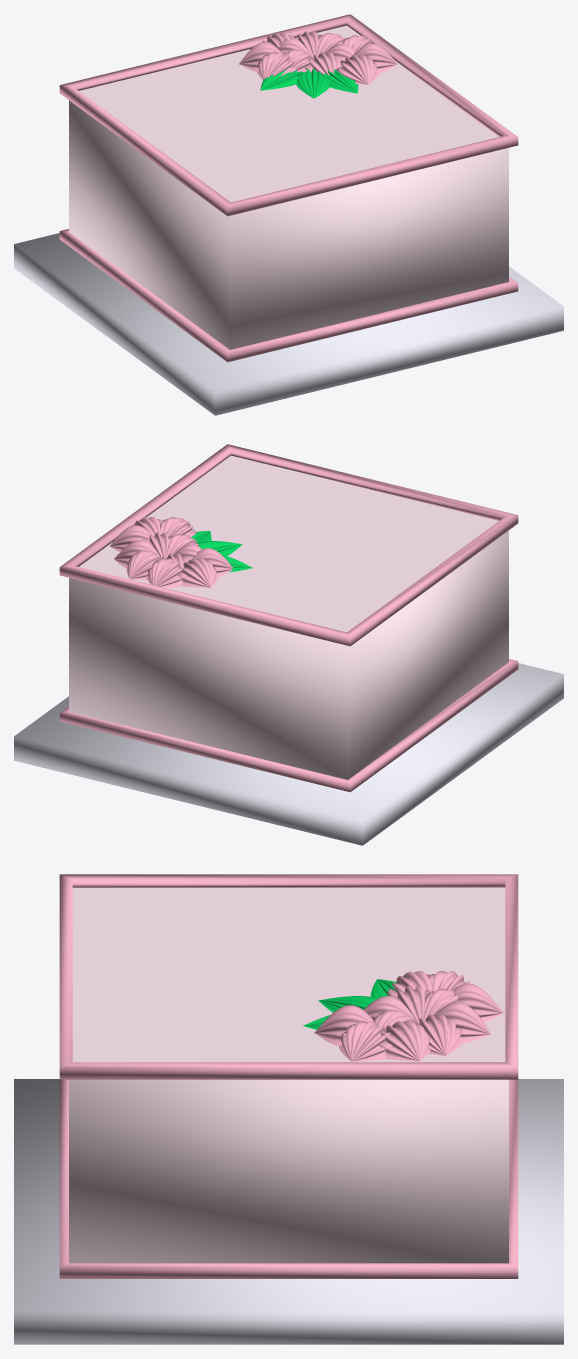
Rendered from square_strawberry_style2.glb.
The picture shows the model from 3 angles, top to bottom: view 1: azimuth 30°, elevation 25°; view 2: azimuth 150°, elevation 25°; view 3: azimuth 270°, elevation 25°; orthographic projection. The views are drawn at different scales.
Visible parts, largest first — view 1: CakeBase, CakeTopCircle, IcingStand, IcingRing.001, IcingRing, leaf.001, design10, design11, design7, design12, design3; view 2: CakeBase, CakeTopCircle, IcingStand, IcingRing.001, IcingRing, design12, design9, leaf.001, design4, design8, design11, design10 (+1 smaller); view 3: CakeBase, CakeTopCircle, IcingStand, IcingRing.001, IcingRing, design7, design8, design5, design4, design10, leaf.001, design9 (+4 smaller).
Boxes of the visible parts, box(x1,y1,x2,y2) form: CakeBase: box(69, 100, 508, 349); CakeTopCircle: box(79, 25, 498, 202); IcingStand: box(14, 233, 563, 415); IcingRing.001: box(59, 14, 518, 216); IcingRing: box(59, 229, 518, 362); leaf.001: box(260, 67, 358, 98); design10: box(336, 54, 378, 84); design11: box(257, 52, 297, 79); design7: box(354, 43, 397, 73); design12: box(239, 42, 280, 71); design3: box(304, 52, 341, 75); CakeBase: box(69, 530, 508, 779); CakeTopCircle: box(79, 455, 498, 632); IcingStand: box(14, 663, 563, 845); IcingRing.001: box(59, 444, 518, 646); IcingRing: box(59, 659, 518, 792); design12: box(178, 558, 217, 587); design9: box(146, 558, 186, 587); leaf.001: box(191, 531, 252, 572); design4: box(126, 550, 162, 579); design8: box(110, 525, 153, 551); design11: box(192, 548, 232, 577); design10: box(160, 517, 196, 536); CakeBase: box(69, 1079, 508, 1263); CakeTopCircle: box(72, 887, 505, 1062); IcingStand: box(14, 1079, 563, 1344); IcingRing.001: box(59, 874, 518, 1079); IcingRing: box(59, 1079, 518, 1278); design7: box(339, 1021, 392, 1061); design8: box(379, 1020, 430, 1061); design5: box(419, 1014, 462, 1055); design4: box(433, 1002, 490, 1043); design10: box(314, 1005, 373, 1046); leaf.001: box(303, 979, 396, 1029); design9: box(449, 983, 502, 1022).
Bounding box in the file's own units: 3 × 1.69 × 3.
